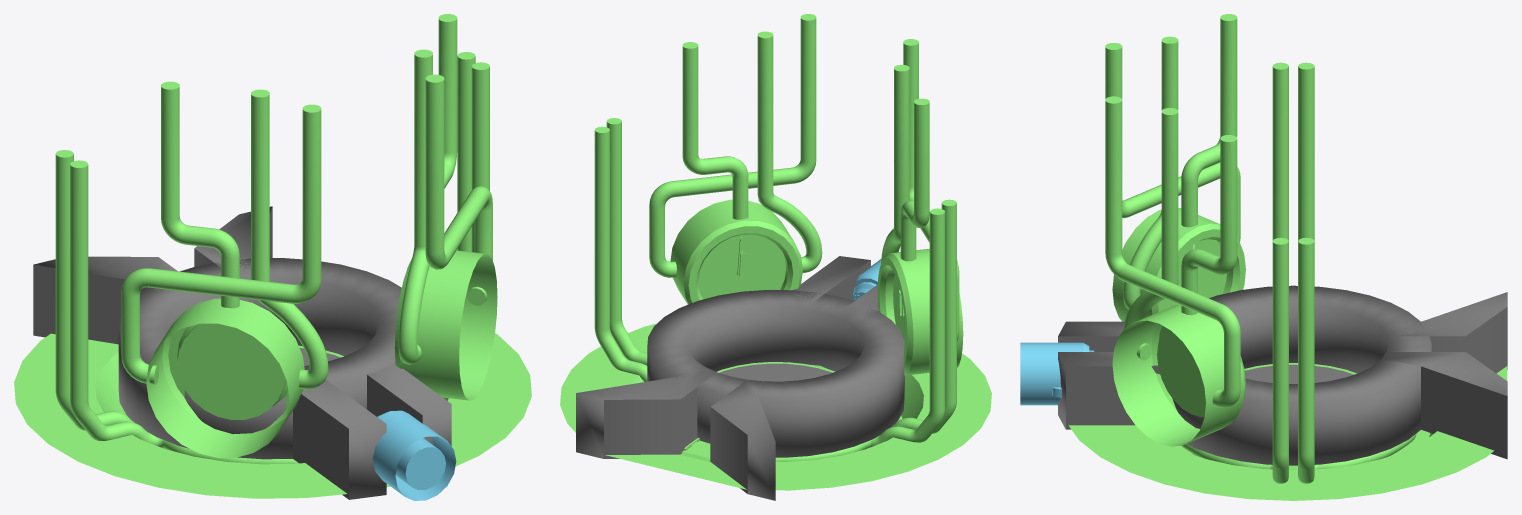
The model's file is BossRoom.fbx.
The picture shows the model from 3 angles, left to right: view 1: azimuth 30°, elevation 25°; view 2: azimuth 150°, elevation 25°; view 3: azimuth 270°, elevation 25°; orthographic projection. The views are drawn at different scales.
Visible parts, largest first — view 1: Cylinder001, Torus002, Torus001, Cylinder003; view 2: Cylinder001, Torus001, Torus002, Object009; view 3: Cylinder001, Torus001, Torus002, Cylinder003, Object009.
Part boxes in pixels (x1,y1,x2,y2): Cylinder001: (14, 14, 531, 498); Torus002: (33, 206, 451, 499); Torus001: (118, 258, 401, 459); Cylinder003: (372, 410, 456, 500); Cylinder001: (560, 14, 991, 490); Torus001: (647, 290, 904, 457); Torus002: (576, 256, 879, 500); Object009: (719, 363, 832, 381); Cylinder001: (1068, 14, 1507, 500); Torus001: (1172, 285, 1431, 465); Torus002: (1058, 292, 1507, 459); Cylinder003: (1020, 342, 1089, 405); Object009: (1244, 364, 1353, 383).
Bounding box in the file's own units: 669 × 570 × 704.
